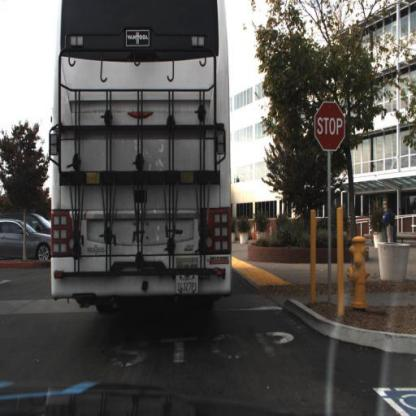car: (1, 218, 55, 258)
pedestrian: (381, 202, 399, 249), (406, 197, 416, 267), (385, 206, 395, 244)
truck: (49, 1, 241, 312)
